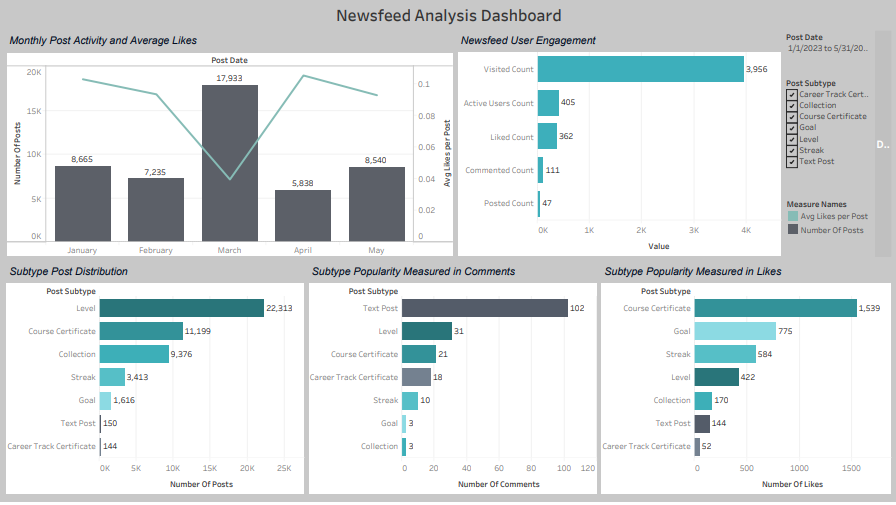

The page's visual inventory and layout, read from the dashboard file:
{"tool":"tableau","page":{"name":"Dashboard 1","canvas":[1366,768],"ordinal":0},"visuals":[{"type":"title","box":[8,8,1350,41]},{"type":"worksheet","title":"Sheet 1","mark":"Bar","rows":["number_of_posts","Calculation_656399688457838592"],"cols":["post_date"],"box":[8,49,758,353.8]},{"type":"worksheet","title":"Sheet 5","mark":"Automatic","box":[766,49,372,353.8]},{"type":"filter","title":"Sheet 1","param":"[federated.1u2n35i1xwz2qw16idjyf1kn14rl].[none:post_date:qk]","box":[1138,49,220,69]},{"type":"filter","title":"Sheet 1","param":"[federated.1u2n35i1xwz2qw16idjyf1kn14rl].[none:post_subtype:nk]","box":[1138,118,220,184]},{"type":"legend","title":"Sheet 1","param":"[federated.1u2n35i1xwz2qw16idjyf1kn14rl].[:Measure Names]","box":[1138,302,220,66]},{"type":"worksheet","title":"Sheet 2","mark":"Automatic","rows":["post_subtype"],"cols":["number_of_posts"],"box":[8,402.8,459,357.2]},{"type":"worksheet","title":"Sheet 4","mark":"Automatic","rows":["post_subtype"],"cols":["number_of_comments"],"box":[467,402.8,444,357.2]},{"type":"worksheet","title":"Sheet 3","mark":"Automatic","rows":["post_subtype"],"cols":["number_of_likes"],"box":[911,402.8,447,357.2]}]}

Visuals, with their boxes in screenshot pixels (x1, y1, x2, y2), scaled from the page's 1366x768 canvas onto the 896x505 screenshot:
title: bbox=[5, 5, 891, 32]
"Sheet 1" worksheet (Bar marks): bbox=[5, 32, 502, 265]
"Sheet 5" worksheet: bbox=[502, 32, 746, 265]
"Sheet 1" filter: bbox=[746, 32, 891, 78]
"Sheet 1" filter: bbox=[746, 78, 891, 199]
"Sheet 1" legend: bbox=[746, 199, 891, 242]
"Sheet 2" worksheet: bbox=[5, 265, 306, 500]
"Sheet 4" worksheet: bbox=[306, 265, 598, 500]
"Sheet 3" worksheet: bbox=[598, 265, 891, 500]
